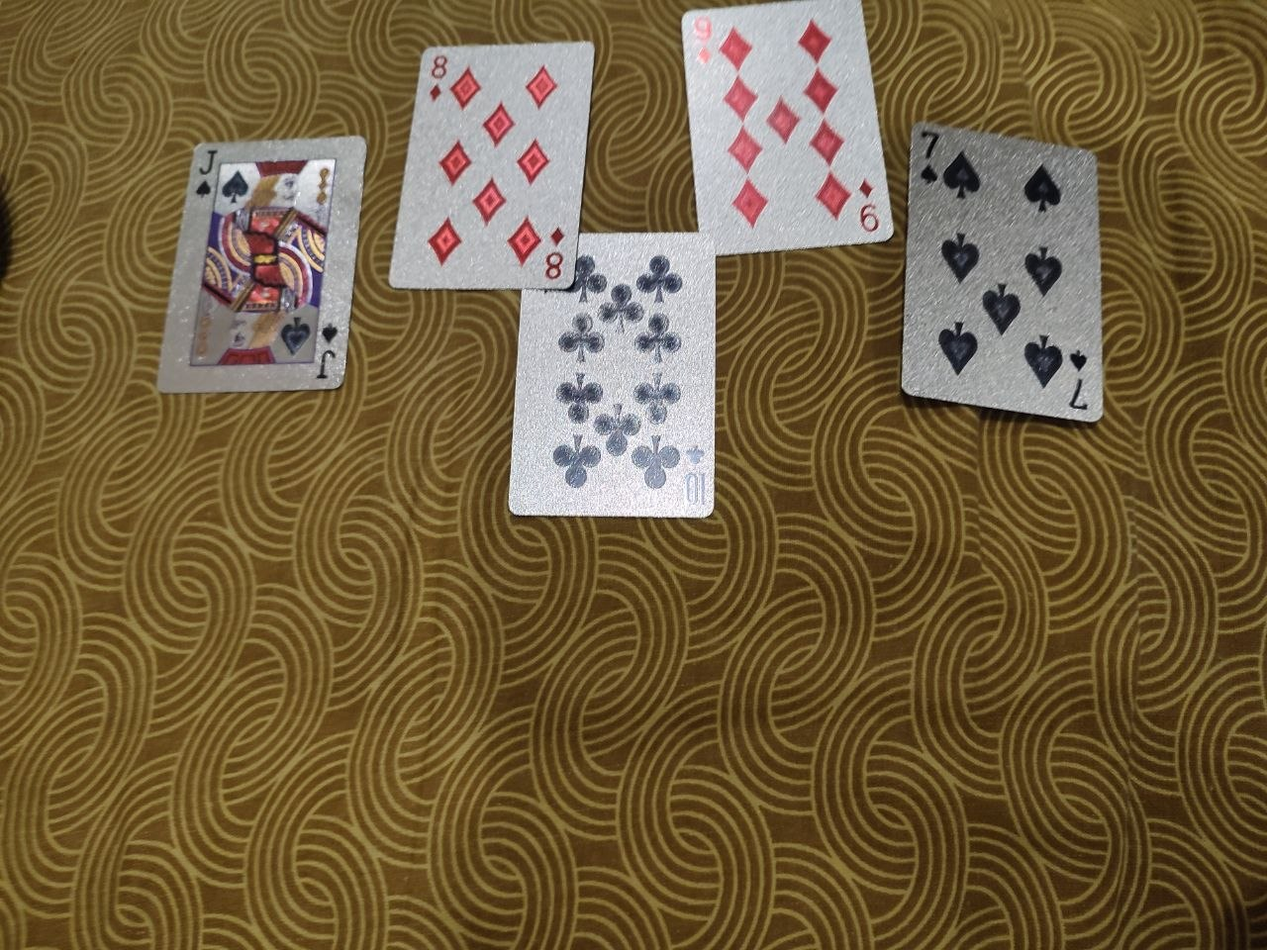10C: (506, 232, 718, 519)
7S: (899, 123, 1106, 423)
8D: (386, 38, 598, 292)
9D: (679, 0, 894, 255)
JS: (154, 133, 368, 396)
